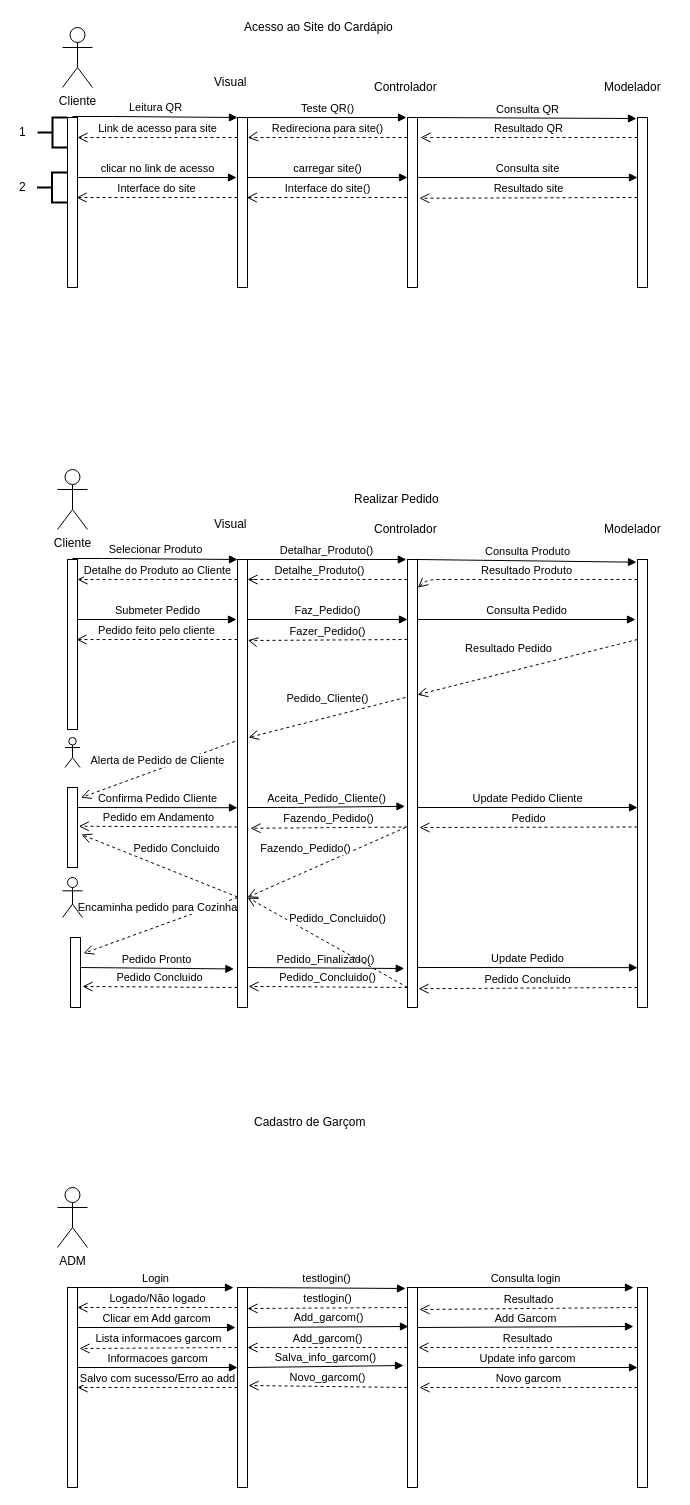
The diagram is 690 pixels wide and 1505 high, and some of its shapes have lost their labels. Here are the shapes that lost their labels. From the top down, the centre of each, then its label:
[72,752]: Garçom
[72,897]: Cozinha
